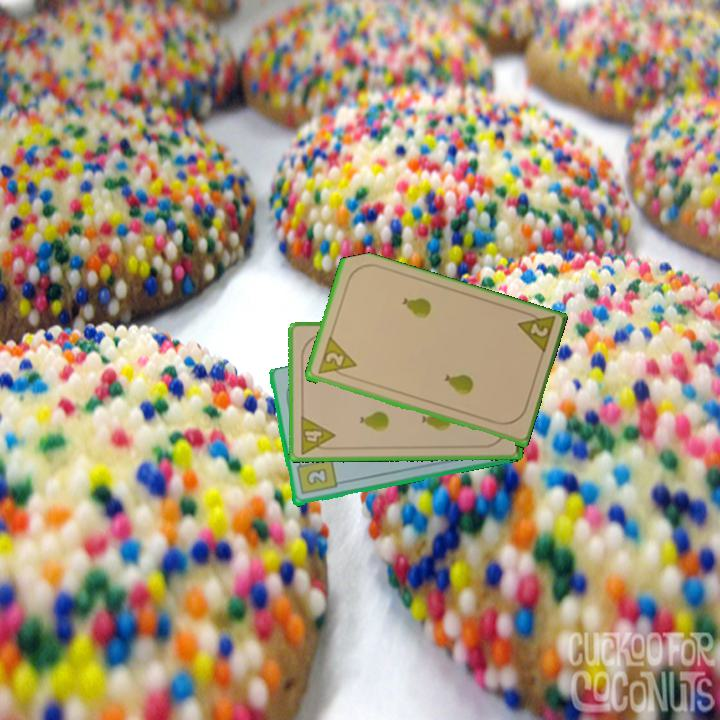2b: (293, 456, 339, 497)
2p: (513, 307, 558, 358), (314, 335, 359, 380)
4p: (296, 412, 337, 457)
